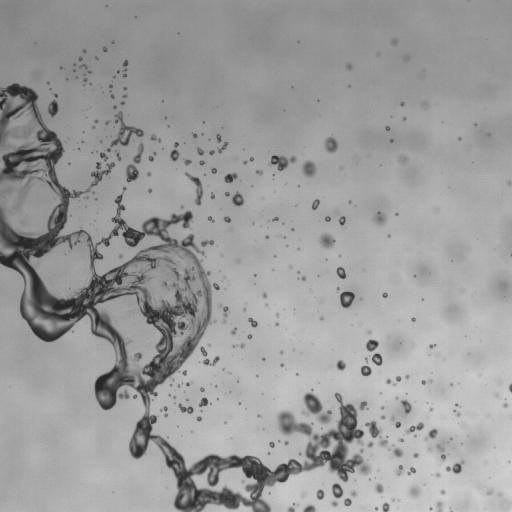droplet: (106, 111, 143, 152), (301, 390, 331, 424), (200, 347, 219, 365), (319, 233, 335, 248), (302, 160, 316, 177), (340, 291, 354, 307), (324, 136, 337, 153), (446, 461, 464, 473), (373, 211, 386, 225), (232, 192, 244, 206), (48, 100, 58, 116), (366, 339, 378, 351), (371, 352, 382, 365), (409, 485, 420, 498), (401, 400, 411, 414), (224, 173, 237, 183), (336, 267, 346, 278), (361, 365, 371, 375), (199, 397, 209, 407), (395, 465, 404, 476), (302, 504, 315, 511), (248, 317, 257, 327), (336, 360, 345, 370), (374, 483, 383, 493), (287, 503, 298, 511), (316, 489, 324, 499), (99, 152, 107, 161), (358, 401, 366, 410), (312, 199, 319, 209), (436, 501, 443, 511), (407, 467, 415, 475), (338, 216, 345, 225), (382, 502, 389, 511), (150, 135, 160, 141), (398, 156, 408, 162), (344, 498, 351, 506), (486, 488, 493, 495), (197, 148, 203, 155), (184, 159, 191, 165), (224, 216, 230, 222), (230, 328, 236, 334), (454, 410, 460, 416), (216, 134, 221, 141), (256, 170, 262, 175), (269, 441, 274, 447), (367, 442, 373, 447), (350, 491, 356, 496), (346, 64, 351, 69), (209, 150, 214, 155), (211, 168, 216, 173), (8, 187, 13, 192), (208, 217, 213, 222), (325, 216, 330, 221), (262, 293, 267, 298), (382, 292, 387, 297), (196, 416, 201, 421), (429, 344, 435, 348), (392, 39, 396, 44), (102, 47, 107, 51), (300, 276, 305, 280), (239, 343, 244, 347), (182, 370, 186, 375), (502, 403, 507, 407), (284, 440, 288, 445), (413, 453, 418, 457), (440, 490, 445, 494), (301, 493, 306, 497), (400, 102, 404, 106), (249, 157, 253, 161), (200, 160, 204, 164), (147, 172, 151, 176), (225, 192, 229, 196), (248, 334, 252, 338), (381, 415, 385, 419), (436, 473, 440, 477), (81, 64, 86, 67), (211, 193, 214, 198), (273, 217, 278, 220), (186, 382, 191, 385), (53, 94, 57, 97), (386, 126, 389, 130), (193, 133, 196, 137), (319, 317, 323, 320), (405, 375, 409, 378), (200, 388, 204, 391), (455, 403, 459, 406), (429, 408, 433, 411), (399, 438, 403, 441), (78, 57, 81, 60), (111, 94, 114, 97), (121, 101, 124, 104), (106, 121, 109, 124), (508, 181, 511, 184), (148, 189, 151, 192), (265, 235, 268, 238), (119, 254, 122, 257), (276, 313, 279, 316), (412, 318, 415, 321), (275, 322, 278, 325), (495, 393, 498, 396), (123, 187, 125, 191), (84, 78, 86, 81), (123, 87, 126, 89), (123, 95, 126, 97), (113, 106, 116, 108), (403, 117, 405, 120), (244, 161, 247, 163), (243, 308, 246, 310), (280, 351, 283, 353), (365, 358, 367, 361), (428, 447, 430, 450), (242, 480, 244, 483), (449, 509, 452, 511), (83, 50, 85, 52), (88, 71, 90, 73), (95, 120, 97, 122), (92, 126, 94, 128), (390, 139, 392, 141), (85, 196, 87, 198), (181, 206, 183, 208), (368, 331, 370, 333), (234, 344, 236, 346), (262, 358, 264, 360), (281, 364, 283, 366), (381, 406, 383, 408), (258, 415, 260, 417)
ligament: (0, 87, 368, 511), (364, 420, 402, 457), (126, 143, 143, 182), (185, 172, 202, 205), (269, 155, 296, 170), (331, 483, 343, 506), (405, 422, 423, 433), (436, 445, 446, 464), (170, 142, 179, 161), (424, 428, 437, 439), (386, 376, 401, 385), (178, 404, 193, 413), (391, 416, 401, 428), (221, 306, 228, 322), (218, 142, 227, 152), (201, 240, 213, 246), (148, 153, 155, 161), (421, 379, 432, 384), (162, 406, 167, 416), (116, 151, 121, 160), (123, 60, 127, 69), (509, 383, 511, 392), (123, 71, 126, 76), (375, 507, 377, 511)
